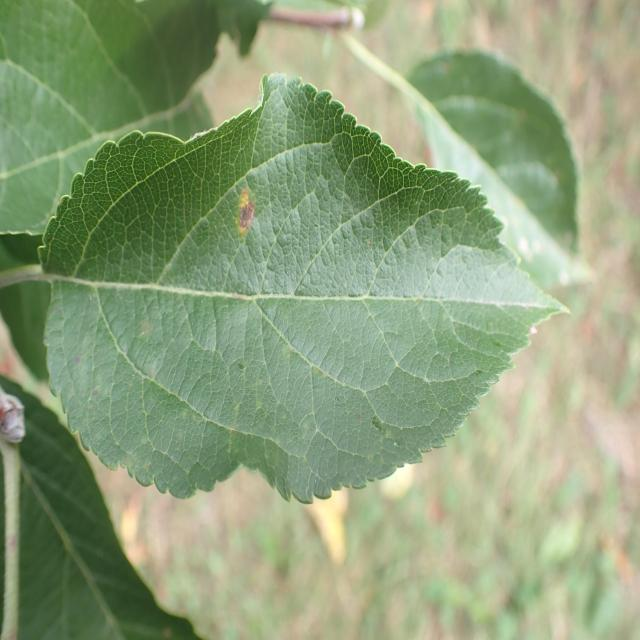Rust: (226, 169, 268, 253)
